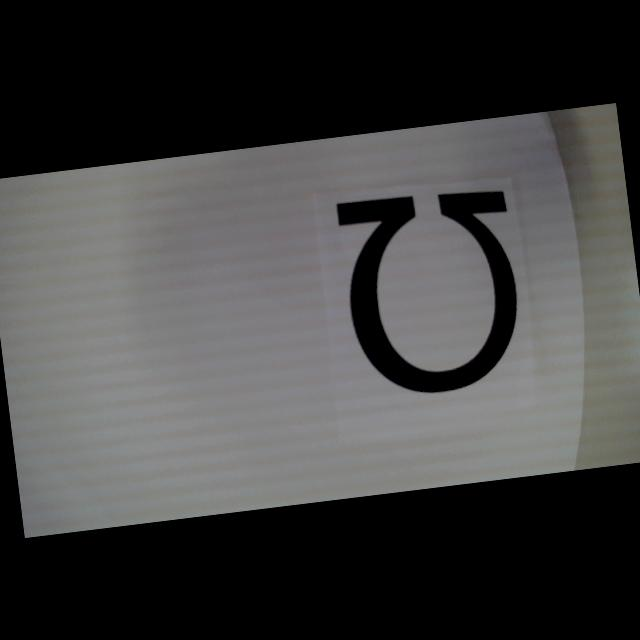OMEGA: (335, 180, 528, 402)
